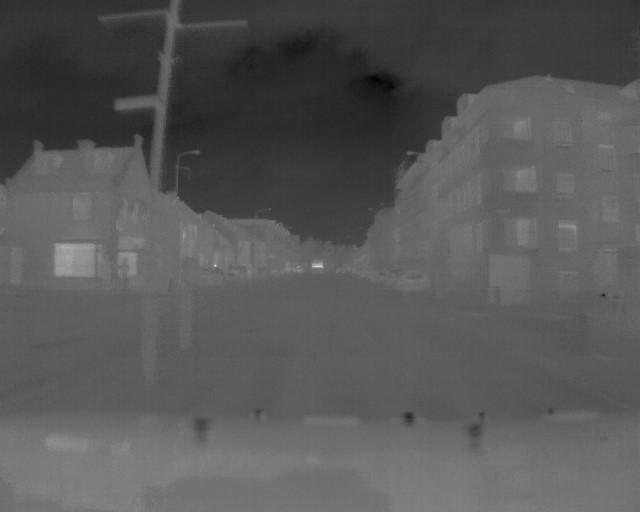car: (390, 269, 433, 298)
